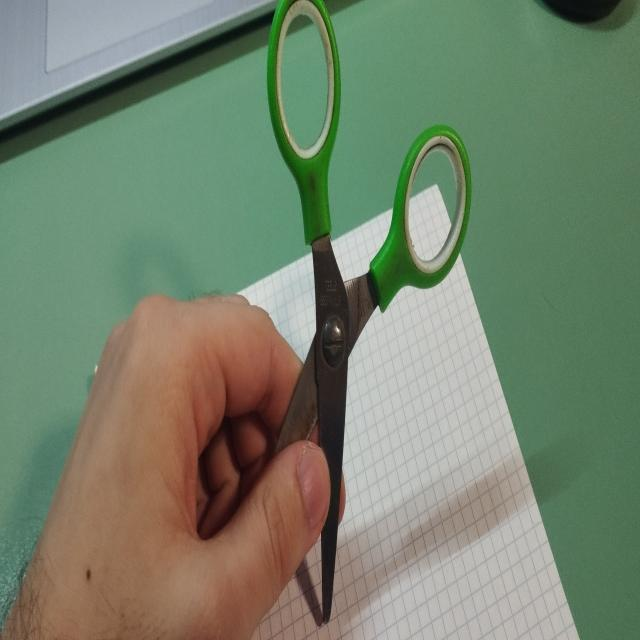tesoura: (240, 0, 476, 635)
